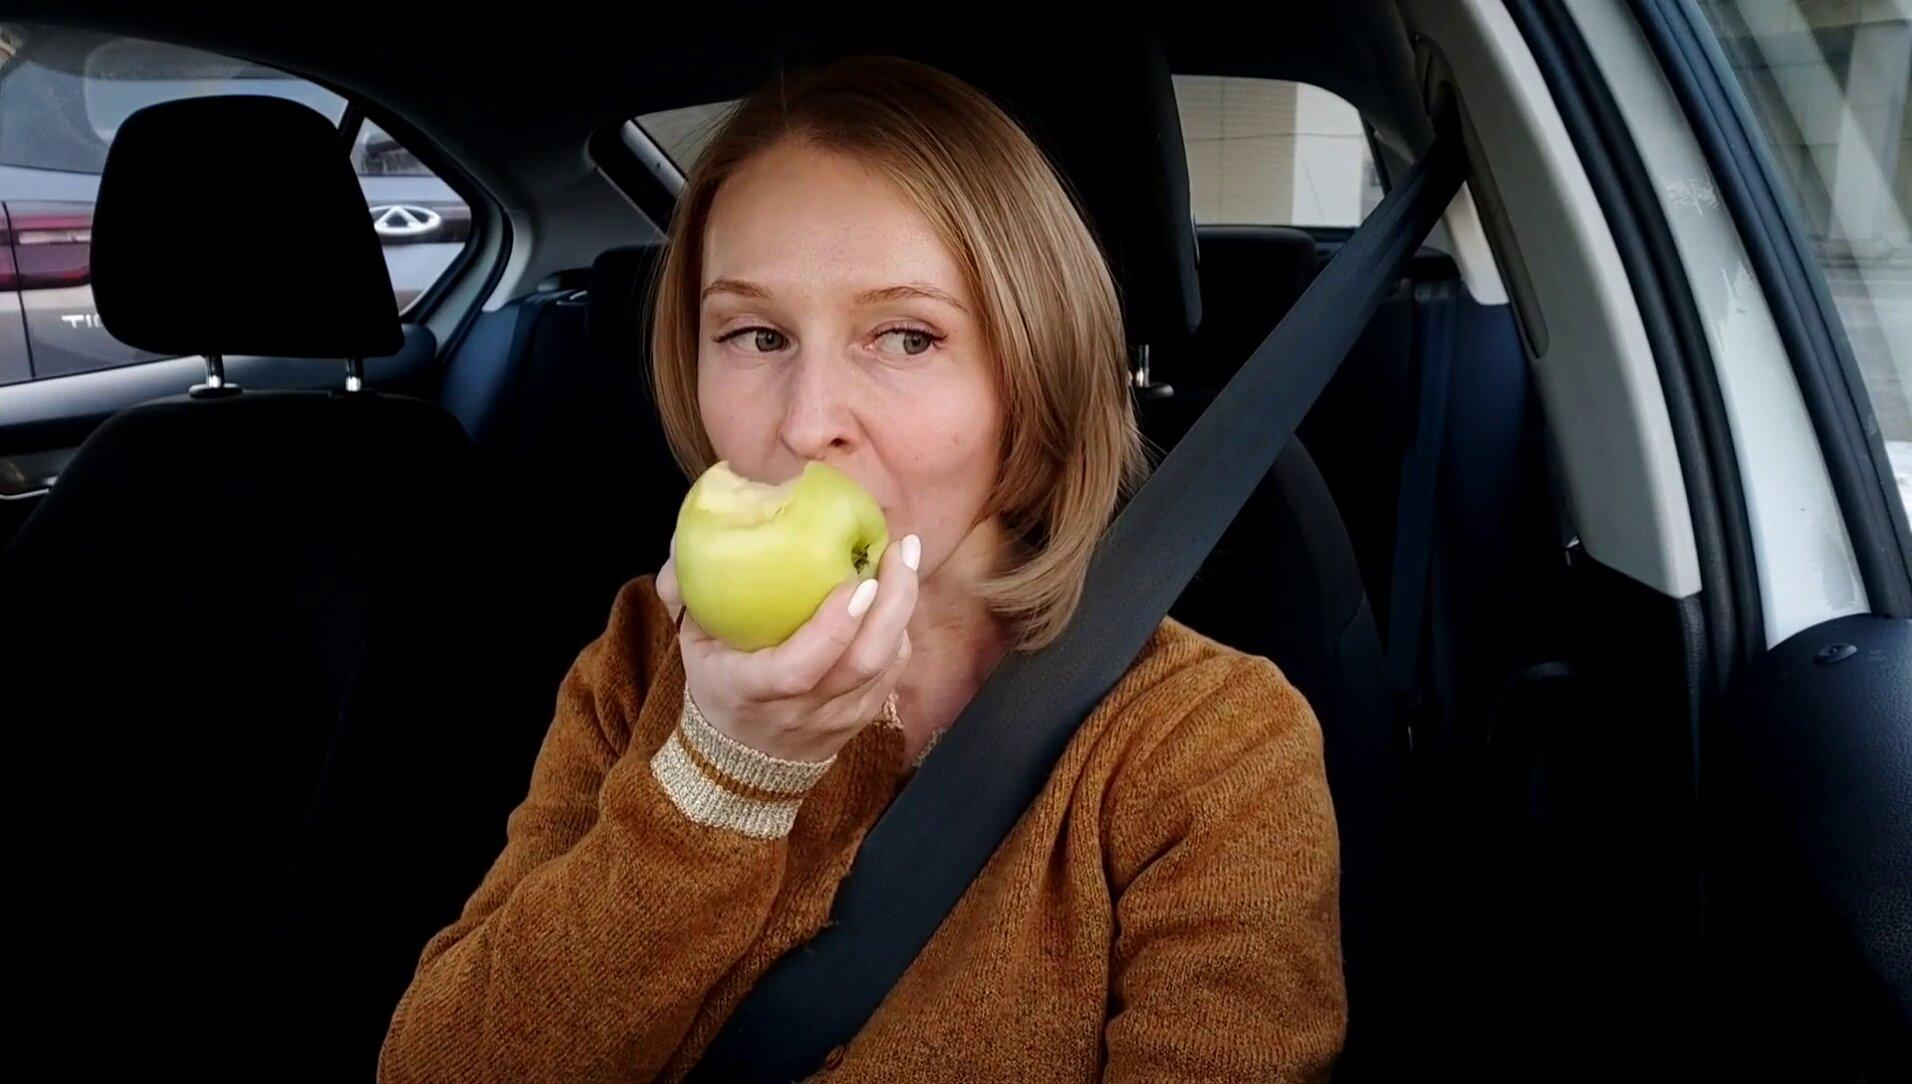Eating: (667, 457, 905, 657)
